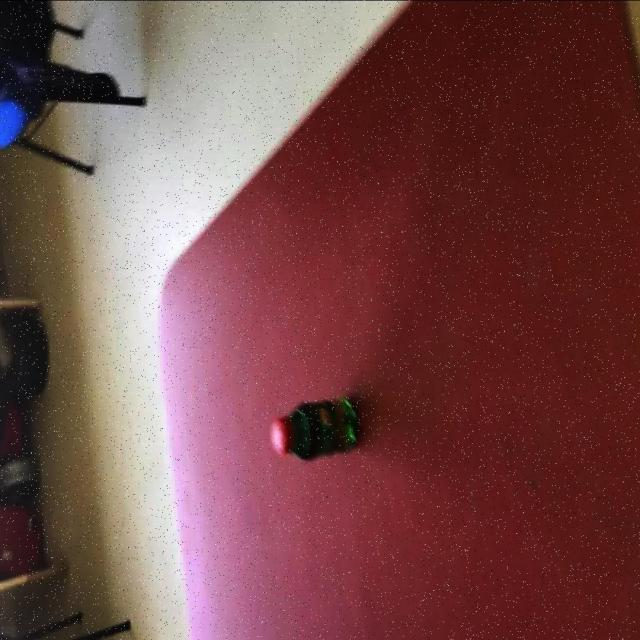Guarana: (268, 393, 360, 461)
